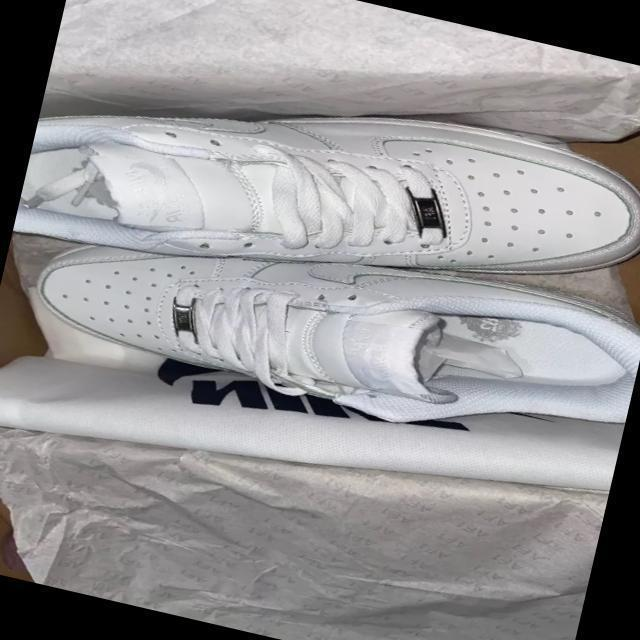nike fake air force: (11, 25, 640, 374), (17, 181, 640, 474)
